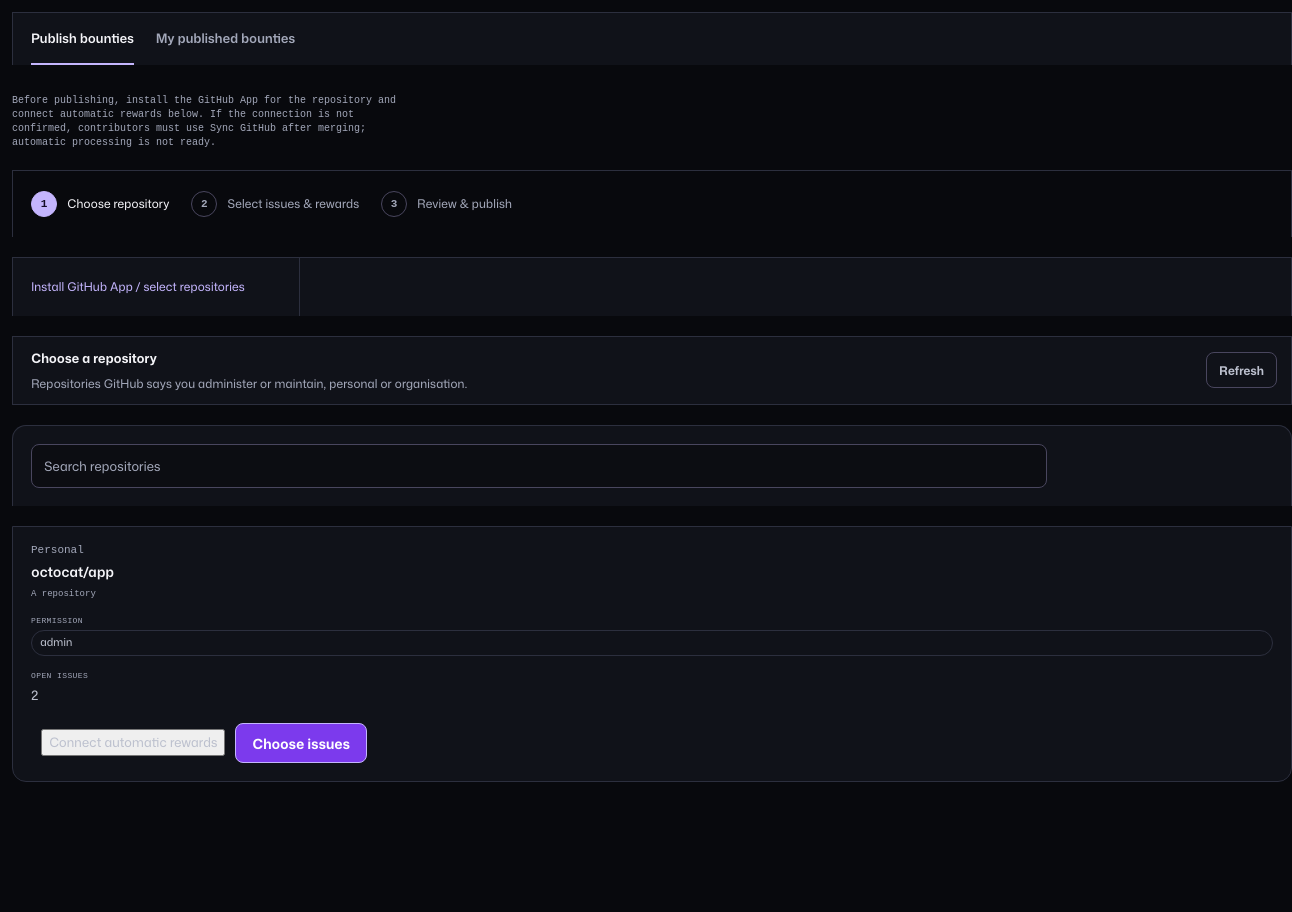
Test: links App installation and connects a selected repository with CSRF
The width and height of the screenshot is (1292, 912).
Click the button "Connect automatic rewards" at [133, 742], box 41,729 -> 225,756
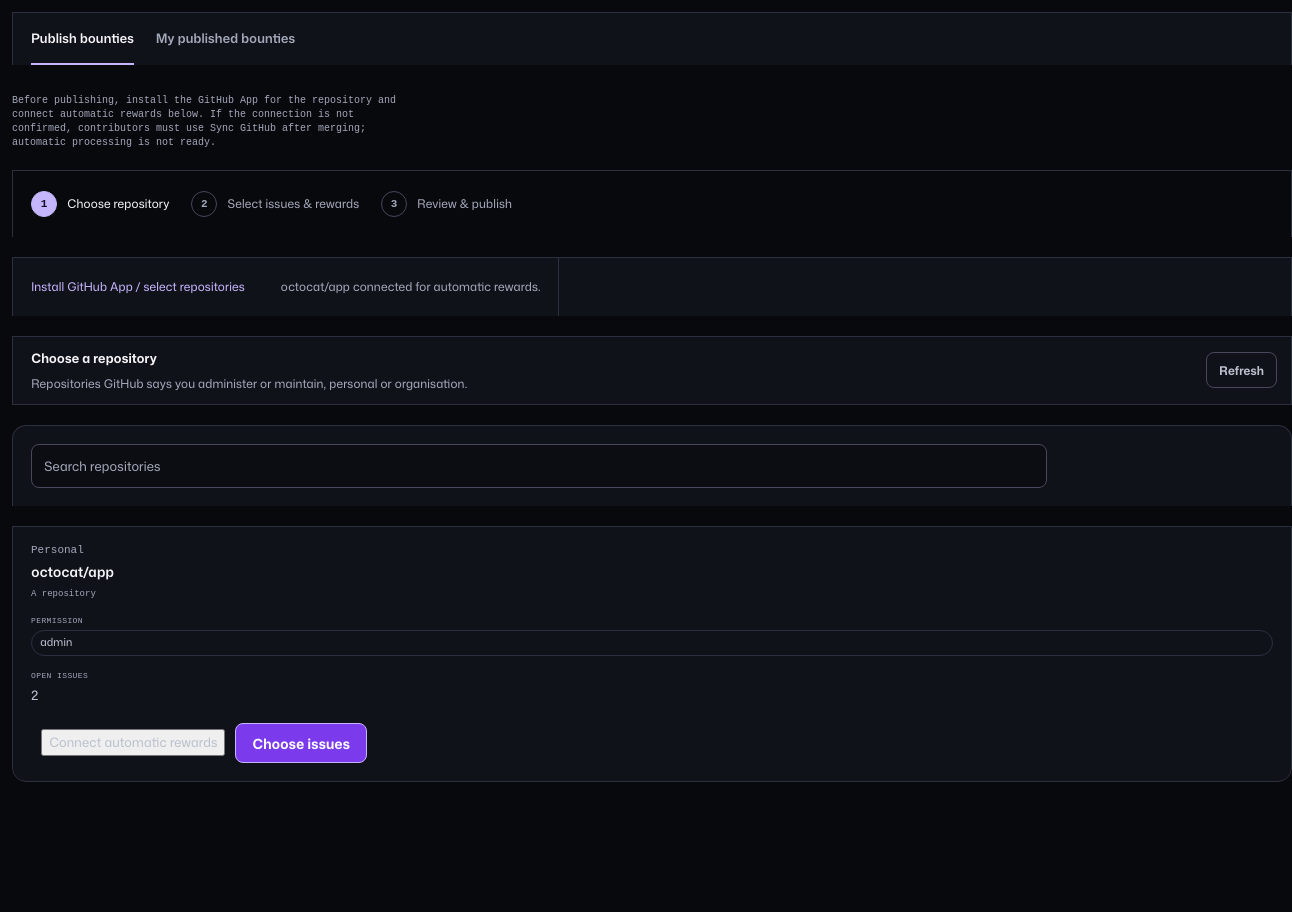
Expected: the text "octocat/app connected for automatic rewards." is shown, 263,258 -> 559,316
